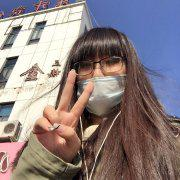WRONG: (72, 52, 132, 112)
